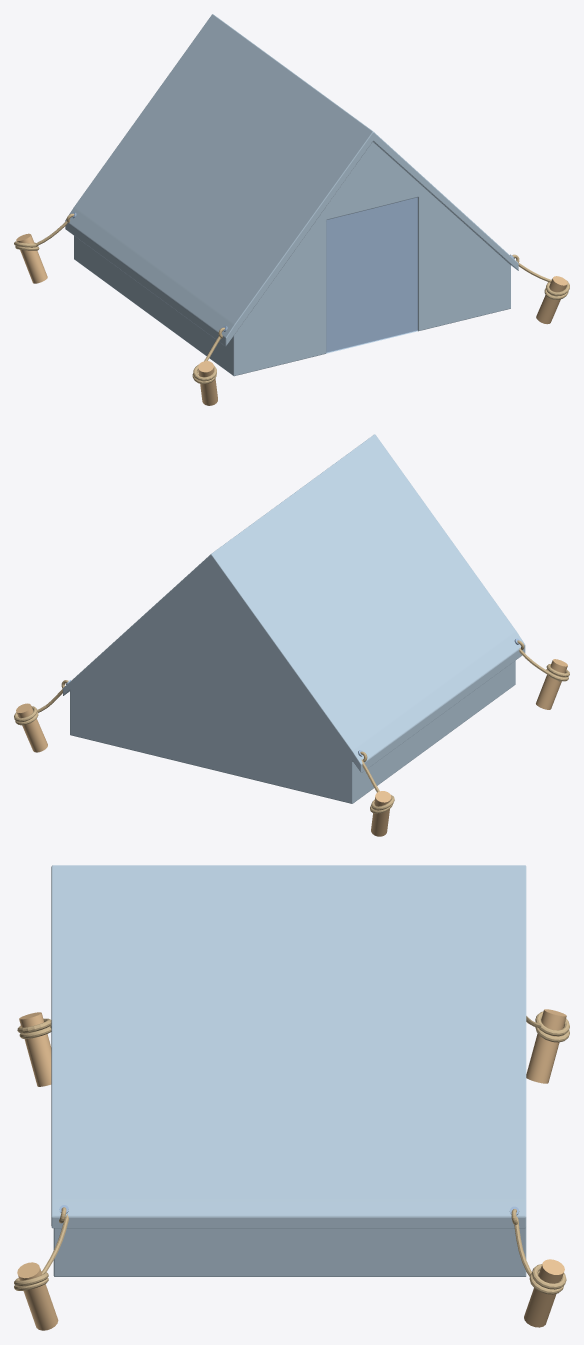
The model's file is Tent.glb.
3 renders of one model, top to bottom at view 1: azimuth 30°, elevation 25°; view 2: azimuth 150°, elevation 25°; view 3: azimuth 270°, elevation 25°, orthographic. The views are drawn at different scales.
Visible parts, largest first — view 1: Tent, Pillar, Rope; view 2: Tent, Pillar, Rope; view 3: Tent, Pillar, Rope.
Part boxes in pixels (<box>): Tent: <box>65,14,518,376</box>; Pillar: <box>16,233,567,405</box>; Rope: <box>14,213,569,384</box>; Tent: <box>63,434,525,803</box>; Pillar: <box>16,659,567,836</box>; Rope: <box>14,640,569,813</box>; Tent: <box>51,865,526,1276</box>; Pillar: <box>17,1009,566,1330</box>; Rope: <box>14,1011,569,1294</box>.
Size of the model in its own units: 1.35 by 0.7934 by 1.18.
